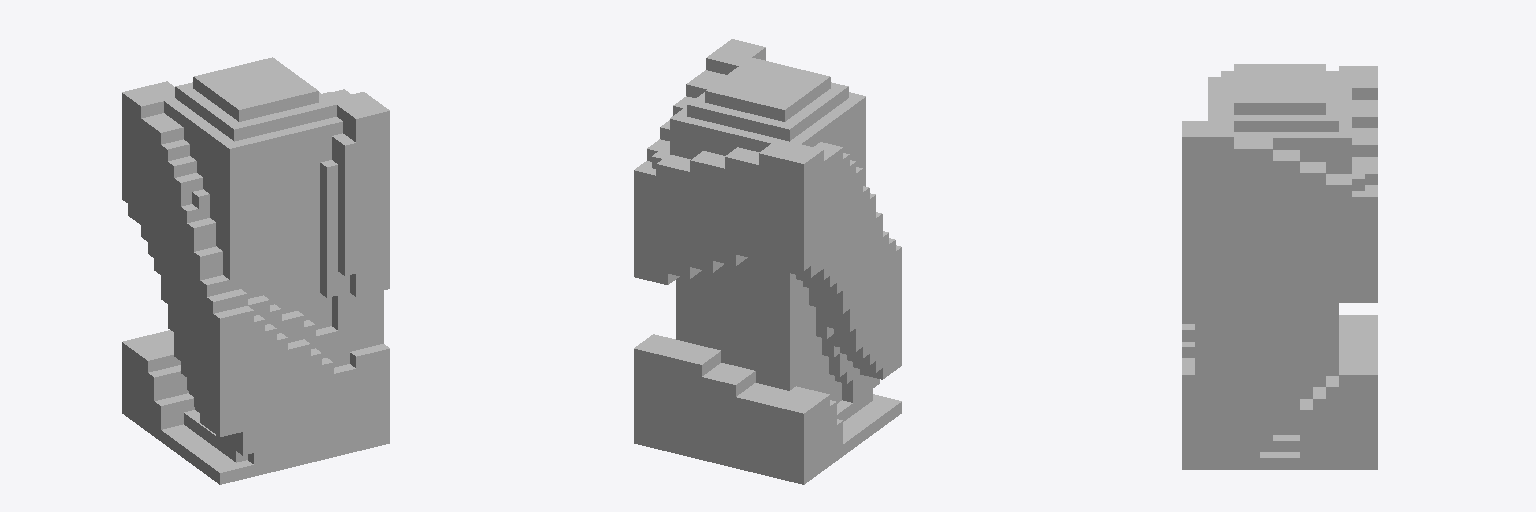
File: Cave Wall test.obj
The picture shows the model from 3 angles: view 1: azimuth 30°, elevation 25°; view 2: azimuth 150°, elevation 25°; view 3: azimuth 270°, elevation 25°; orthographic projection.
Visible parts, largest first — view 1: object 1; view 2: object 1; view 3: object 1.
Part boxes in pixels (left/top/right/bottom): object 1: left=122, top=57, right=389, bottom=484; object 1: left=634, top=39, right=901, bottom=484; object 1: left=1182, top=64, right=1377, bottom=469.
Bounding box in the file's own units: 1.5 × 2.9 × 1.5.